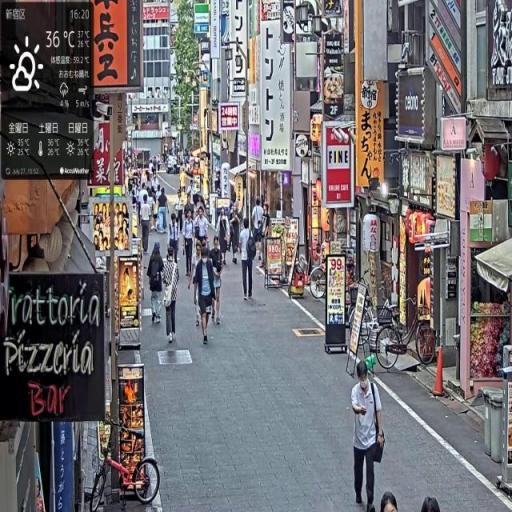person: (351, 358, 387, 512), (192, 237, 218, 348), (163, 250, 181, 344), (239, 217, 258, 303), (148, 243, 166, 330), (209, 238, 225, 329), (183, 208, 196, 279), (219, 208, 233, 269), (140, 194, 152, 255), (169, 212, 181, 267), (158, 188, 171, 237)
